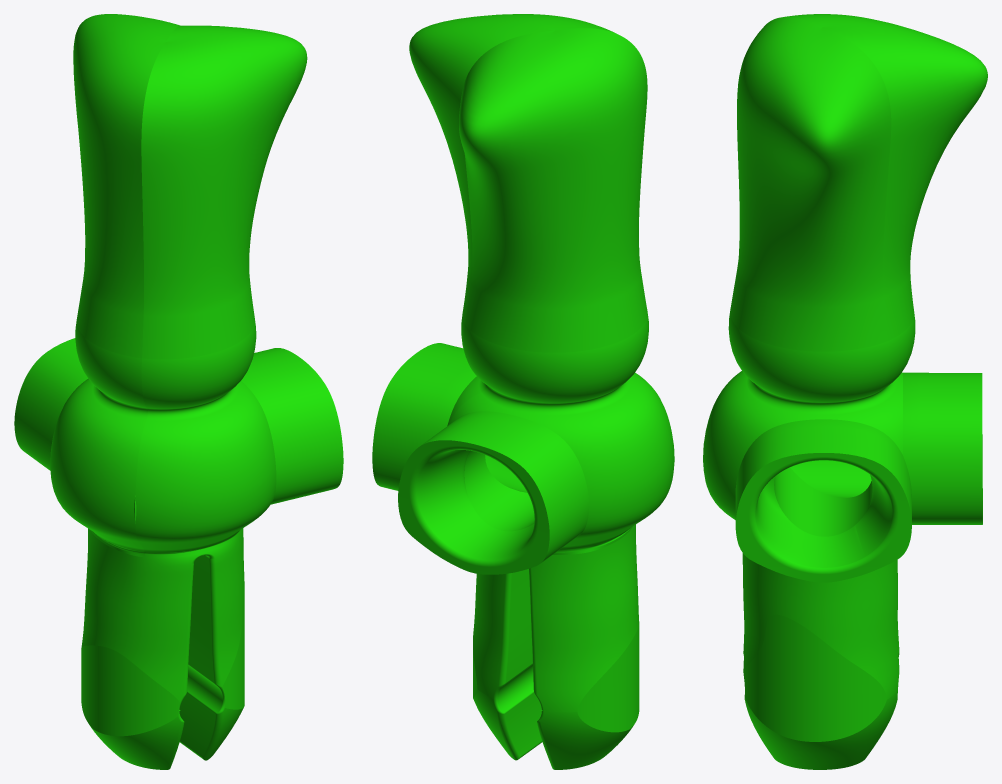
The model's file is asset.glb.
3 renders of one model, left to right at view 1: azimuth 30°, elevation 25°; view 2: azimuth 150°, elevation 25°; view 3: azimuth 270°, elevation 25°, orthographic. The views are drawn at different scales.
Bounding box in the file's own units: 0.00689 × 0.0193 × 0.00689.
